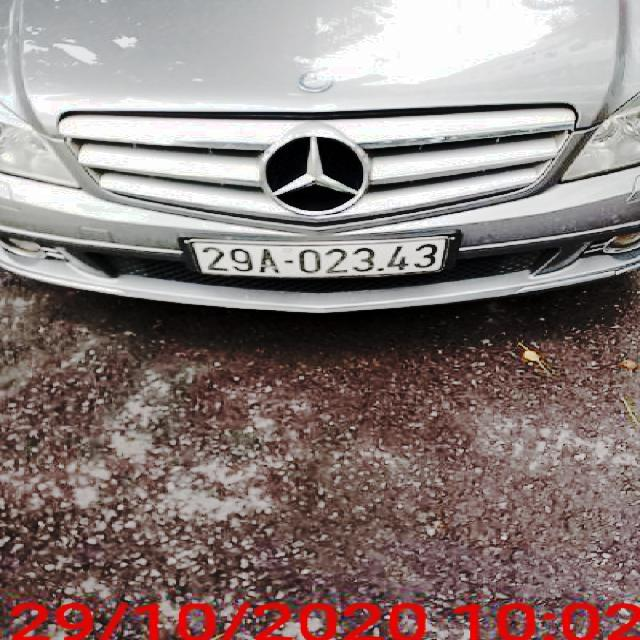license_plate: (187, 239, 448, 278)
